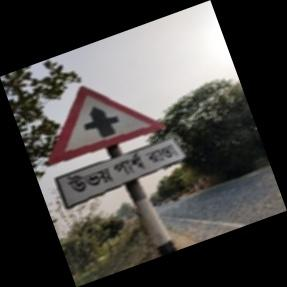Crossroad: (46, 84, 182, 257)
